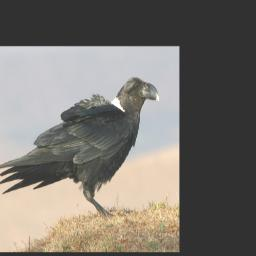Crow: (0, 75, 162, 222)
